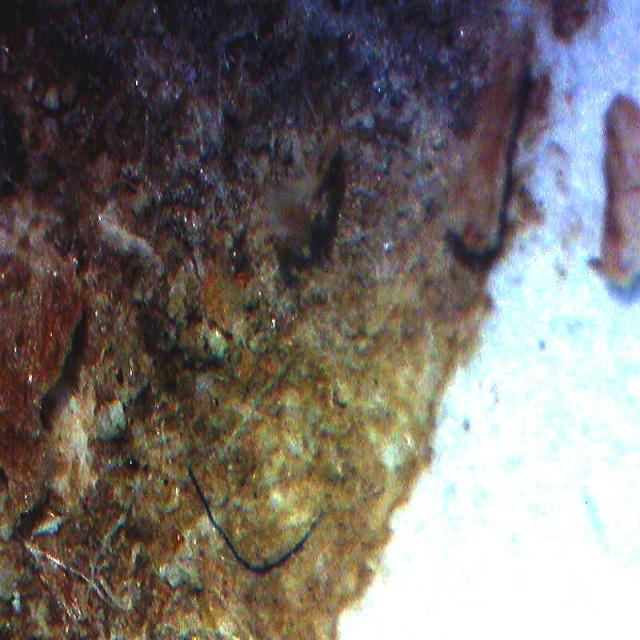microplastic: (188, 467, 329, 573)
